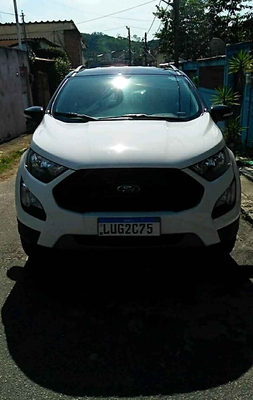Frontal Veiculo: (15, 67, 242, 261)
